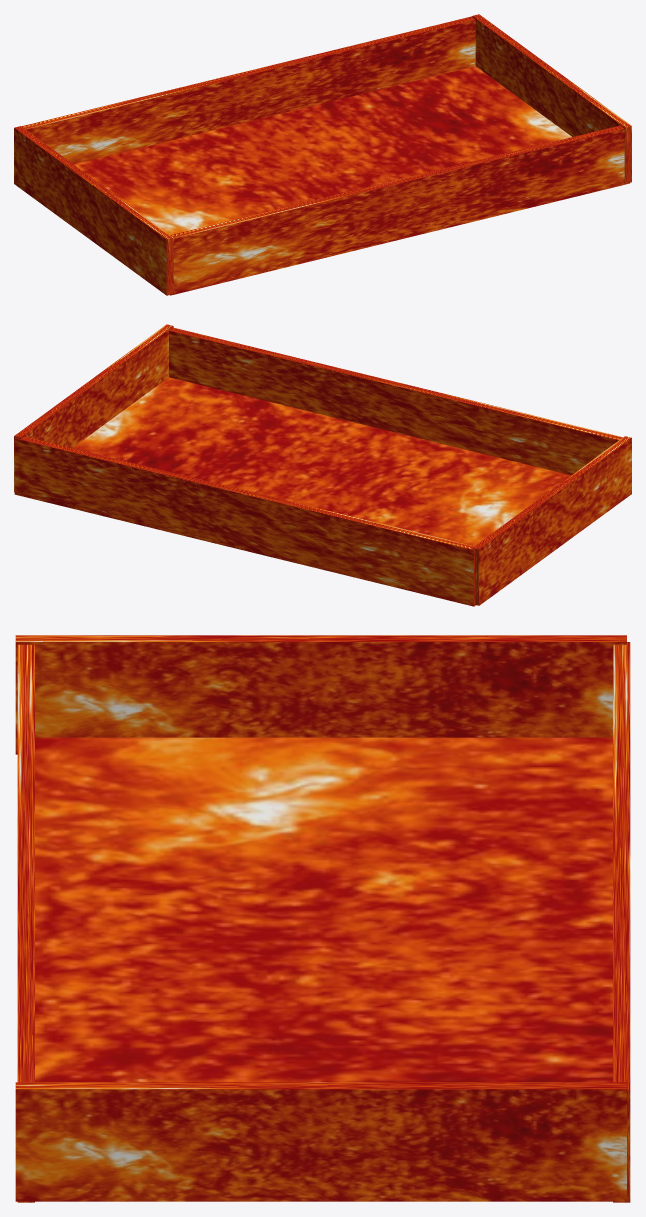
The model's file is board.obj.
3 renders of one model, top to bottom at view 1: azimuth 30°, elevation 25°; view 2: azimuth 150°, elevation 25°; view 3: azimuth 270°, elevation 25°, orthographic. The views are drawn at different scales.
Visible parts, largest first — view 1: Cube.004_Cube.007; view 2: Cube.004_Cube.007; view 3: Cube.004_Cube.007.
Part boxes in pixels (box(x1,y1,x2,y2)): Cube.004_Cube.007: box(14, 14, 631, 295); Cube.004_Cube.007: box(14, 324, 631, 606); Cube.004_Cube.007: box(15, 635, 630, 1202).
Bounding box in the file's own units: 26.25 × 3.11 × 15.01.
1 material, 1 textured.
